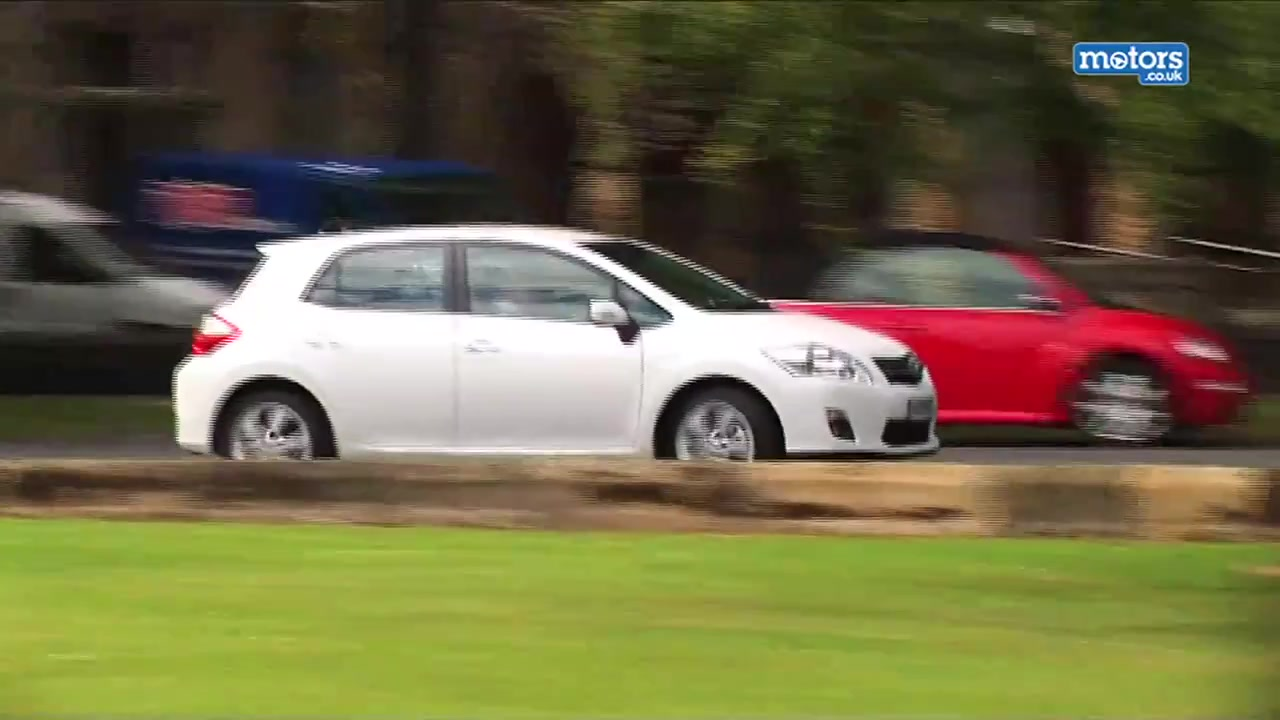car: (170, 221, 946, 468), (747, 235, 1256, 454), (1, 187, 242, 387)
